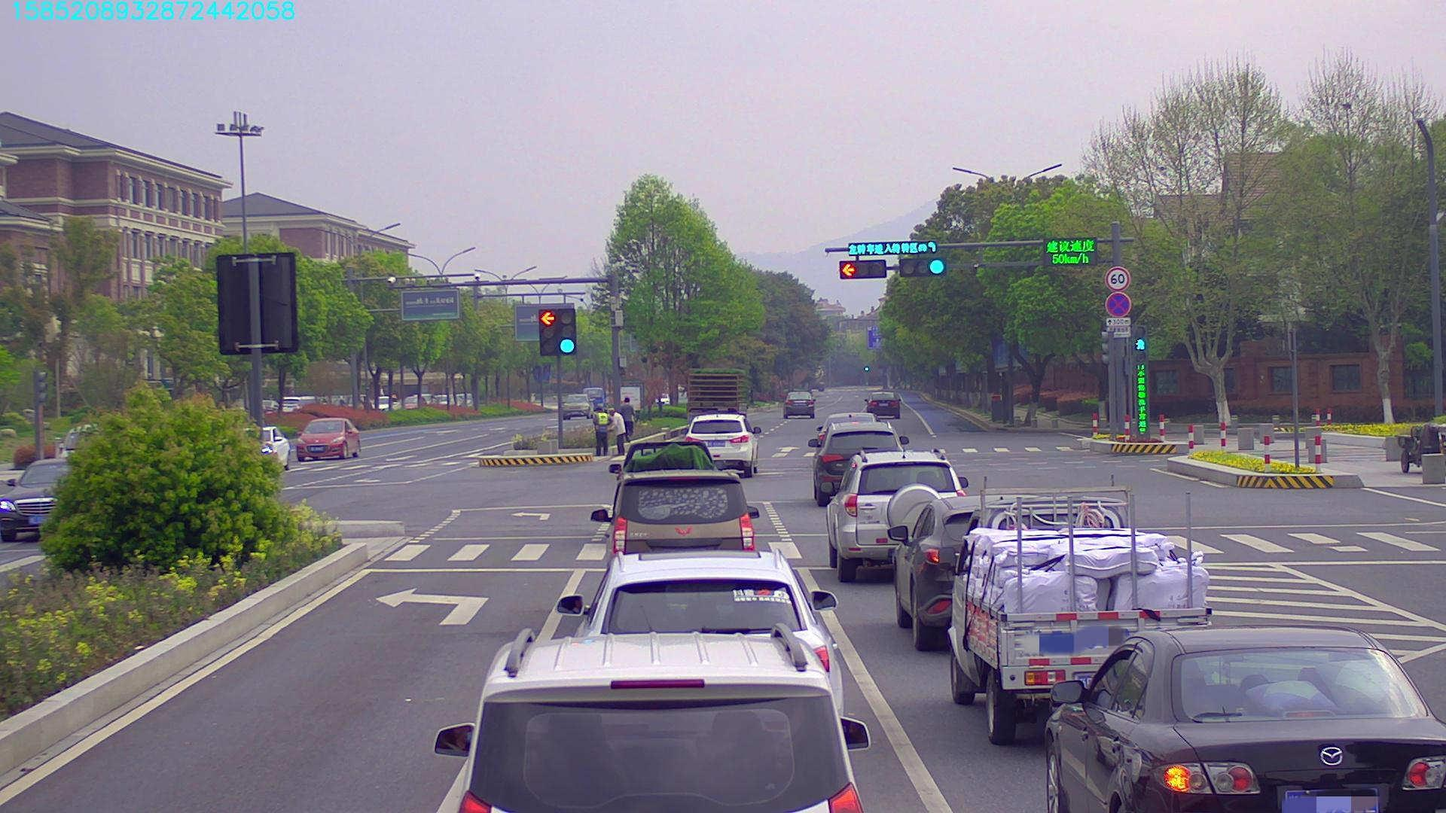green: (893, 261, 945, 275)
red: (839, 262, 891, 282)
wait_on: (849, 239, 939, 254)
